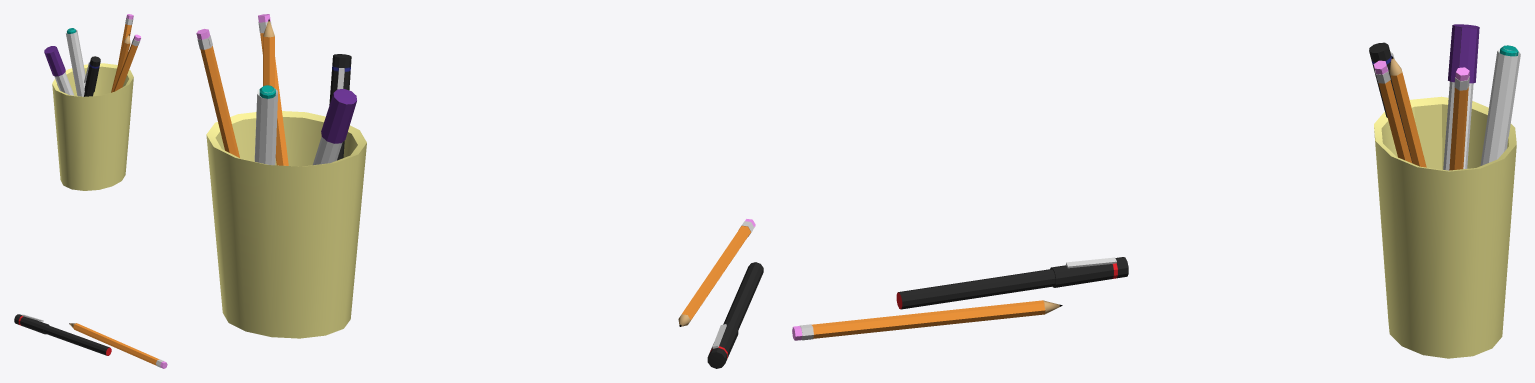
Rendered from PenCup_Textured_title.fbx.
3 views of the same model, side by side, from view 1: azimuth 30°, elevation 25°; view 2: azimuth 150°, elevation 25°; view 3: azimuth 270°, elevation 25° (orthographic). The views are drawn at different scales.
Parts seen in each view (by area): view 1: PenCup, pCylinder11, pCylinder12, pCylinder9, pCylinder6, pCylinder7, pCylinder8, pCylinder10, pCylinder4; view 2: PenCup, pCylinder11, pCylinder6, pCylinder4, pCylinder9, pCylinder12, pCylinder8, pCylinder7, pCylinder10; view 3: PenCup, pCylinder11, pCylinder12, pCylinder9, pCylinder6, pCylinder4, pCylinder10, pCylinder8, pCylinder7.
Boxes of the visible parts, x1,y1,x2,y2 form: PenCup: (52, 63, 133, 190); pCylinder11: (14, 314, 111, 355); pCylinder12: (69, 323, 167, 368); pCylinder9: (66, 28, 85, 96); pCylinder6: (44, 46, 74, 95); pCylinder7: (84, 56, 100, 96); pCylinder8: (113, 34, 140, 91); pCylinder10: (111, 34, 130, 92); pCylinder4: (118, 14, 133, 62); PenCup: (206, 111, 366, 338); pCylinder11: (707, 262, 763, 368); pCylinder6: (313, 89, 356, 165); pCylinder4: (196, 29, 239, 157); pCylinder9: (254, 85, 277, 165); pCylinder12: (678, 219, 755, 326); pCylinder8: (258, 14, 288, 165); pCylinder7: (329, 54, 351, 160); pCylinder10: (263, 19, 274, 87); PenCup: (1374, 96, 1516, 358); pCylinder11: (896, 257, 1128, 309); pCylinder12: (792, 300, 1062, 340); pCylinder9: (1480, 45, 1520, 165); pCylinder6: (1443, 24, 1479, 170); pCylinder4: (1449, 67, 1469, 170); pCylinder10: (1389, 56, 1426, 167); pCylinder8: (1373, 60, 1412, 162); pCylinder7: (1369, 42, 1412, 162).
Size of the model in its own units: 1.06 by 0.9909 by 1.64.
